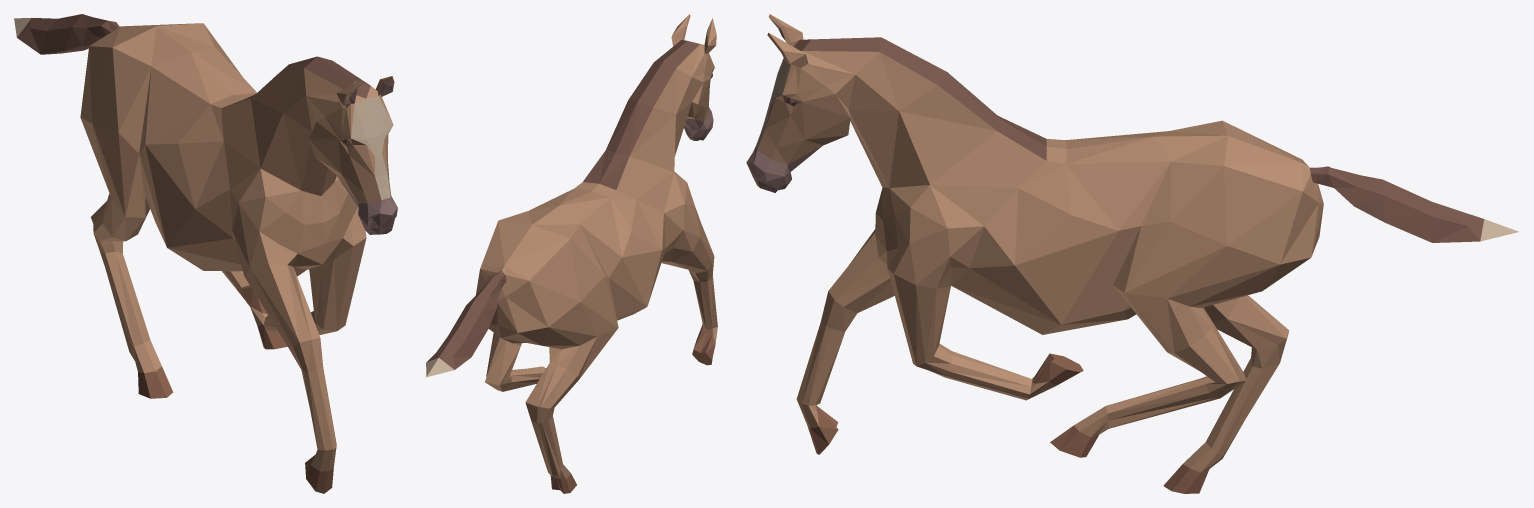
Rendered from horse.glb.
The picture shows the model from 3 angles, left to right: view 1: azimuth 30°, elevation 25°; view 2: azimuth 150°, elevation 25°; view 3: azimuth 270°, elevation 25°; orthographic projection. The views are drawn at different scales.
Visible parts, largest first — view 1: mesh_0; view 2: mesh_0; view 3: mesh_0.
Boxes of the visible parts, <box> form: mesh_0: <box>14,14,397,493</box>; mesh_0: <box>426,14,717,493</box>; mesh_0: <box>746,14,1518,493</box>.
Bounding box in the file's own units: 63.79 × 190 × 278.
